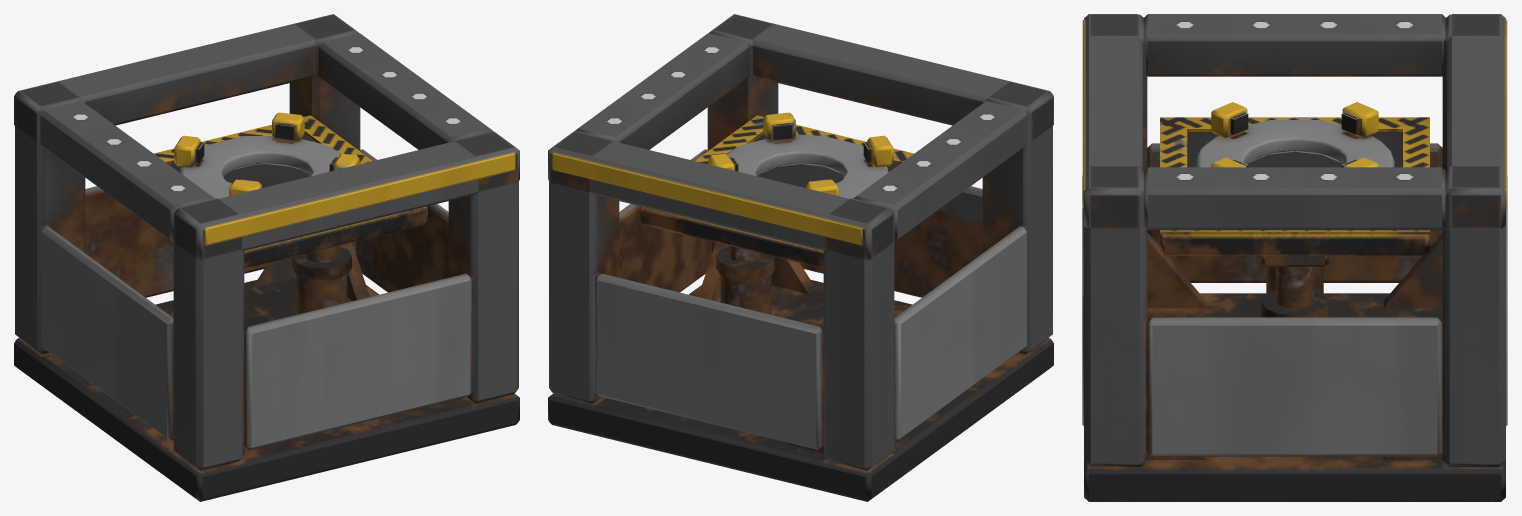
The model's file is R4X_FlyingDroneDeployer_LOD1.glb.
3 views of the same model, side by side, from view 1: azimuth 30°, elevation 25°; view 2: azimuth 150°, elevation 25°; view 3: azimuth 270°, elevation 25° (orthographic). The views are drawn at different scales.
Parts seen in each view (by area): view 1: R4X_FlyingDroneDeployer_LOD1; view 2: R4X_FlyingDroneDeployer_LOD1; view 3: R4X_FlyingDroneDeployer_LOD1.
Part boxes in pixels (x1=…): R4X_FlyingDroneDeployer_LOD1: x1=14, y1=14, x2=519, y2=501; R4X_FlyingDroneDeployer_LOD1: x1=548, y1=14, x2=1053, y2=501; R4X_FlyingDroneDeployer_LOD1: x1=1082, y1=14, x2=1507, y2=501.
Size of the model in its own units: 0.504 by 0.41 by 0.504.
Materials: 1 (1 with a texture image).
